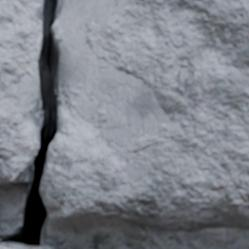brick: (0, 244, 23, 248), (34, 246, 55, 248)
broken_brick: (41, 0, 248, 232), (0, 0, 39, 185)
crack: (0, 0, 64, 248)
